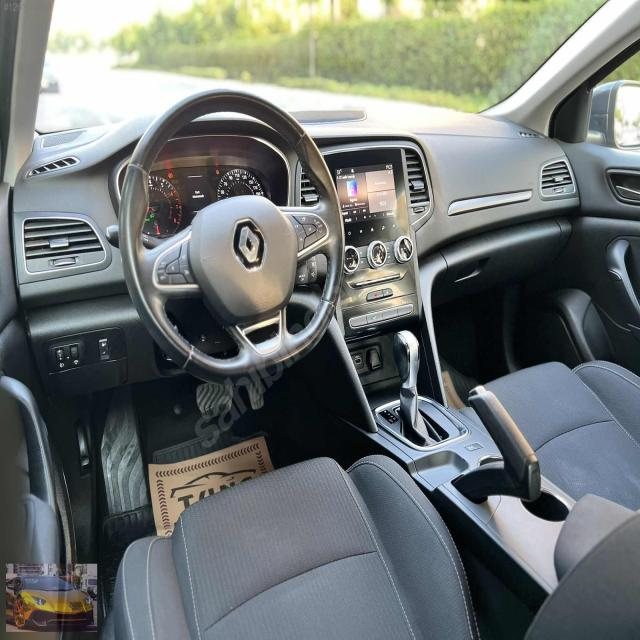renault: (239, 222, 260, 266)
